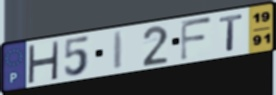2: (141, 23, 170, 68)
5: (63, 33, 94, 79)
F: (179, 16, 214, 63)
H: (26, 40, 61, 84)
I: (112, 29, 126, 72)
T: (218, 12, 246, 53)
